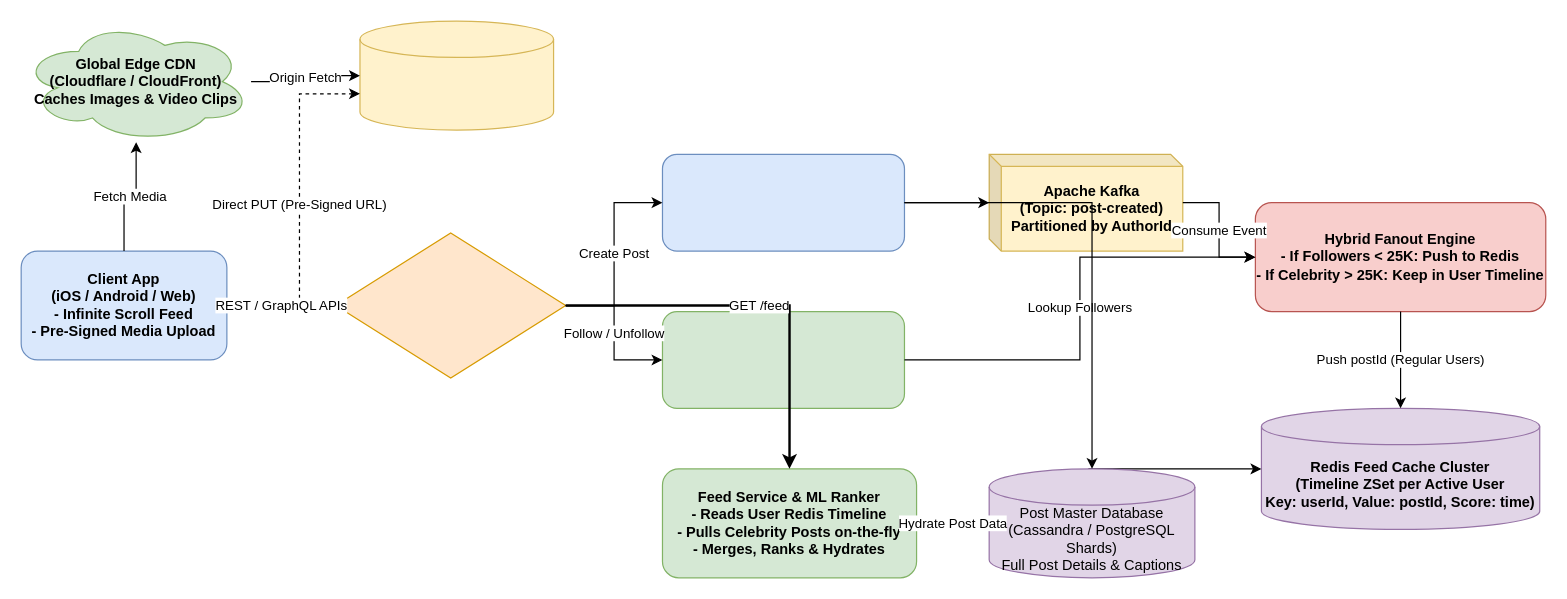
The diagram is 1567 pixels wide and 599 high, and some of its shapes have lost their labels. The box of each missing label's shape, as (x1, y1, x2, y2) in pixels:
API Gateway (Envoy) (Auth, Rate Limiting, SSL, Cursor Keyset Routing): (335, 232, 566, 378)
Object Storage (S3) (Master Media & Thumbnails): (359, 20, 554, 130)
Post Publishing Service (Generates Pre-Signed URLs, Creates Snowflake Post IDs): (661, 153, 904, 251)
Social Graph Service (Follower/Following Graph, Cached via TAO / Memcached): (661, 310, 904, 408)
